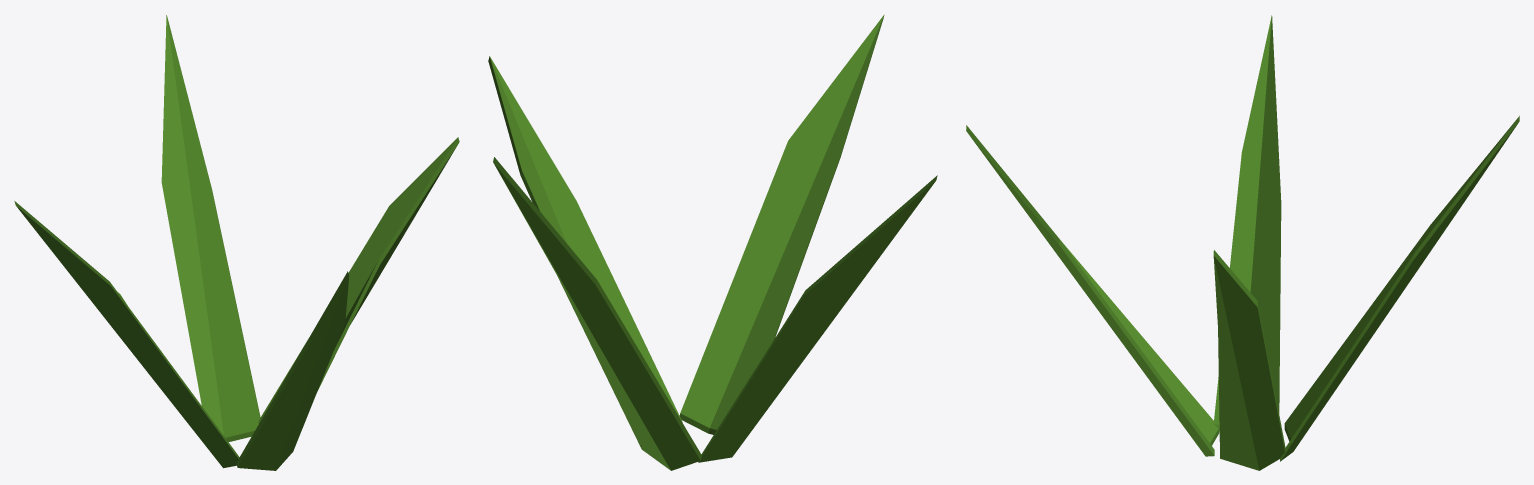
The model's file is mato1.fbx.
3 renders of one model, left to right at view 1: azimuth 30°, elevation 25°; view 2: azimuth 150°, elevation 25°; view 3: azimuth 270°, elevation 25°, orthographic. The views are drawn at different scales.
Parts seen in each view (by area): view 1: Plane; view 2: Plane; view 3: Plane.
Boxes of the visible parts, x1,y1,x2,y2 form: Plane: [14, 15, 459, 470]; Plane: [488, 14, 937, 470]; Plane: [966, 15, 1519, 470].
Size of the model in its own units: 275 by 214 by 297.
